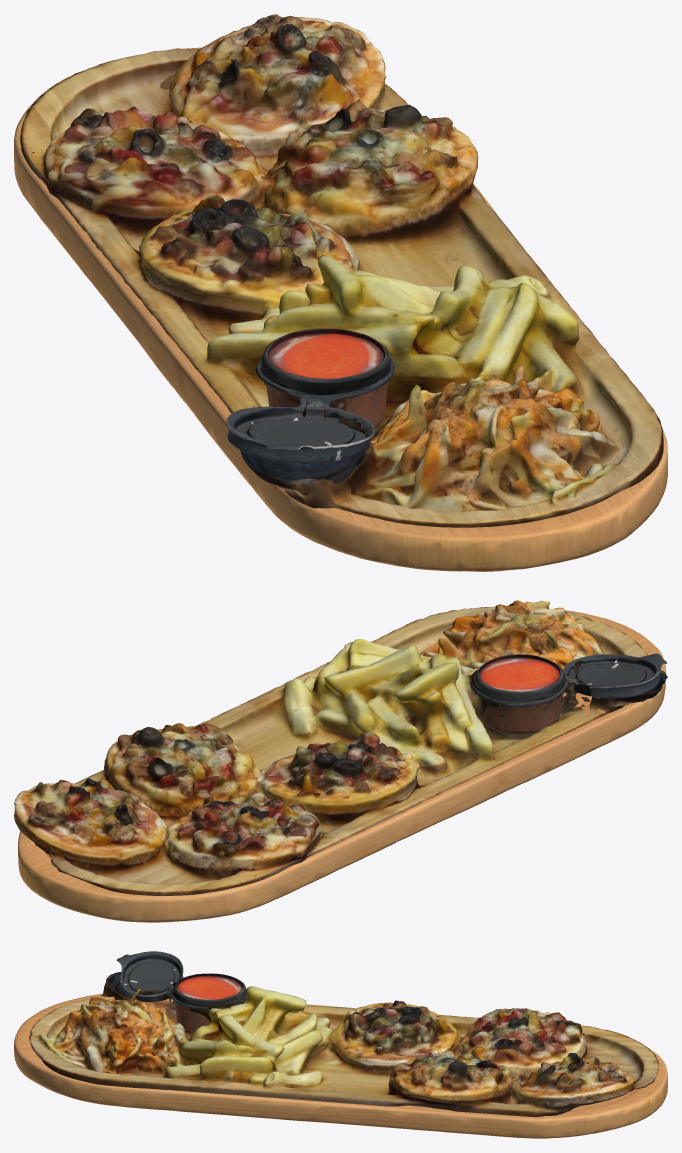
Rendered from pizza4.ros.glb.
3 views of the same model, one above another, from view 1: azimuth 30°, elevation 25°; view 2: azimuth 150°, elevation 25°; view 3: azimuth 270°, elevation 25° (orthographic). The views are drawn at different scales.
Visible parts, largest first — view 1: 3DModel, Mesh_0, Mesh_0.002; view 2: 3DModel, Mesh_0, Mesh_0.002; view 3: 3DModel, Mesh_0, Mesh_0.002.
Part boxes in pixels (bbox=[...]): 3DModel: bbox=[20, 14, 663, 527]; Mesh_0: bbox=[14, 47, 667, 571]; Mesh_0.002: bbox=[226, 328, 394, 464]; 3DModel: bbox=[14, 600, 667, 895]; Mesh_0: bbox=[18, 609, 666, 922]; Mesh_0.002: bbox=[471, 653, 666, 734]; 3DModel: bbox=[29, 972, 658, 1117]; Mesh_0: bbox=[14, 993, 667, 1138]; Mesh_0.002: bbox=[116, 951, 246, 1032].
Bounding box in the file's own units: 0.2282 × 0.0529 × 0.4472.
3 materials, 3 textured.
